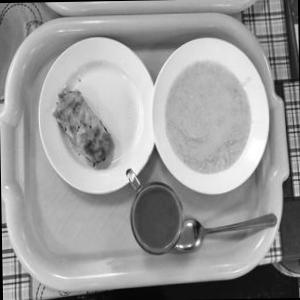cheese_sandwich: (49, 78, 120, 176)
coffee: (122, 178, 193, 260)
porridge: (146, 48, 254, 173)
